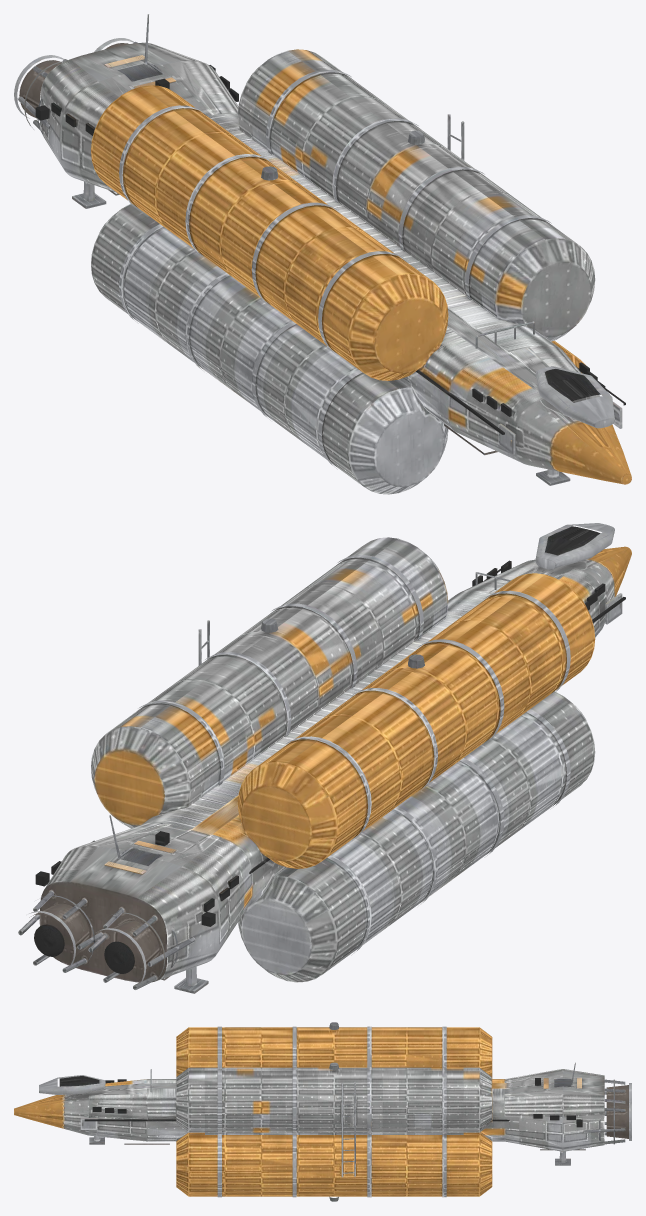
Rendered from sd_npc_tanker.glb.
3 views of the same model, one above another, from view 1: azimuth 30°, elevation 25°; view 2: azimuth 150°, elevation 25°; view 3: azimuth 270°, elevation 25° (orthographic). The views are drawn at different scales.
Visible parts, largest first — view 1: LOD0_body, LOD1_body; view 2: LOD0_body, LOD1_body; view 3: LOD0_body, LOD1_body.
Part boxes in pixels (box(x1,y1,x2,y2)): LOD0_body: box(14, 14, 631, 494); LOD1_body: box(14, 14, 629, 494); LOD0_body: box(18, 523, 631, 993); LOD1_body: box(18, 523, 631, 993); LOD0_body: box(14, 1022, 631, 1201); LOD1_body: box(15, 1022, 631, 1201).
Size of the model in its own units: 0.2663 by 0.2425 by 1.
1 material, 1 textured.
